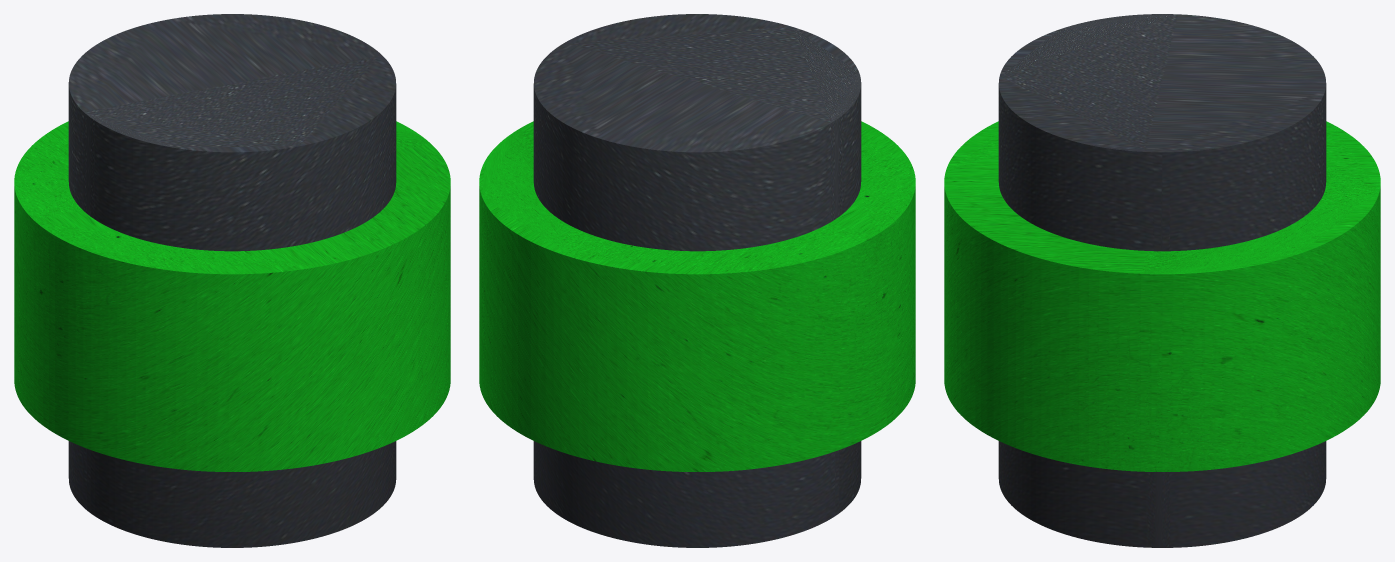
The model's file is CylinderBumper.obj.
The picture shows the model from 3 angles, left to right: view 1: azimuth 30°, elevation 25°; view 2: azimuth 150°, elevation 25°; view 3: azimuth 270°, elevation 25°; orthographic projection.
Parts seen in each view (by area): view 1: CylinderBumper_Cylinder, CylinderBumperIn_Cylinder.001; view 2: CylinderBumper_Cylinder, CylinderBumperIn_Cylinder.001; view 3: CylinderBumper_Cylinder, CylinderBumperIn_Cylinder.001.
Part boxes in pixels (box(x1,y1,x2,y2)): CylinderBumper_Cylinder: box(14, 121, 450, 471); CylinderBumperIn_Cylinder.001: box(68, 14, 396, 547); CylinderBumper_Cylinder: box(479, 121, 915, 471); CylinderBumperIn_Cylinder.001: box(533, 14, 861, 547); CylinderBumper_Cylinder: box(944, 121, 1380, 471); CylinderBumperIn_Cylinder.001: box(998, 14, 1326, 547).
Size of the model in its own units: 2 by 2 by 2.
Materials: 2 (2 with a texture image).
